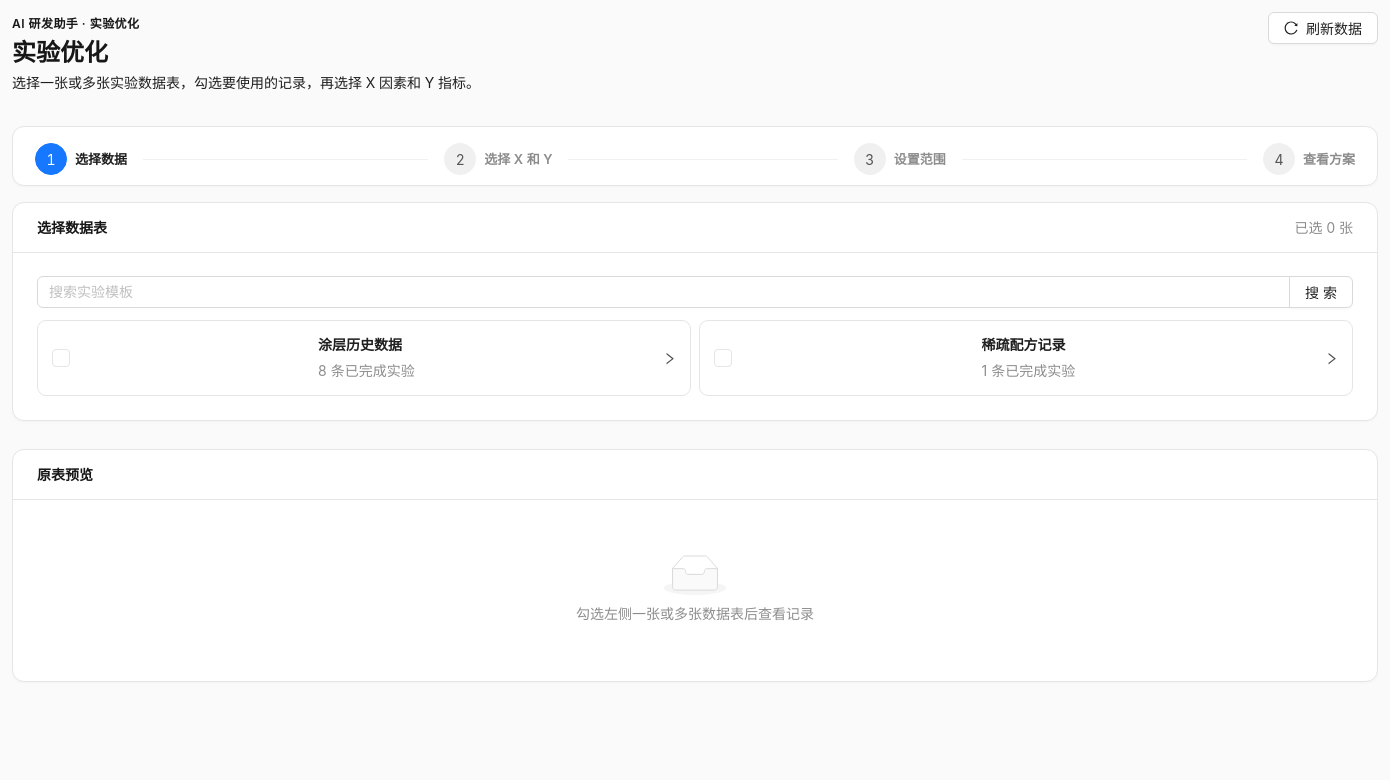
Test: HistoricalOptimizationWorkbench › shows loading and ignores a late failure after the table is deselected
Click the text "涂层历史数据" at (360, 345), box [318,336,402,353]
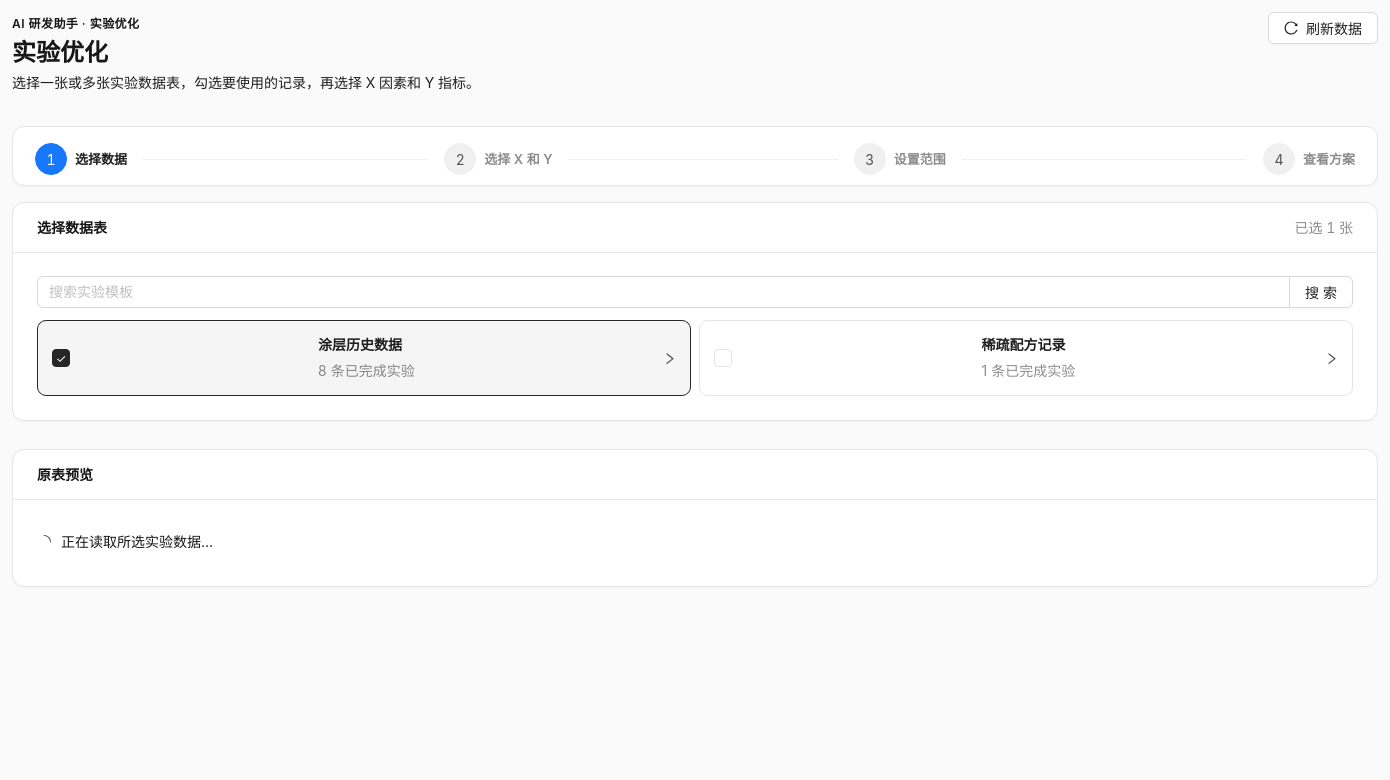
Result: the text "正在读取所选实验数据…" is shown at [61,533,213,550]
Click the text "涂层历史数据" at (360, 345), box [318,336,402,353]
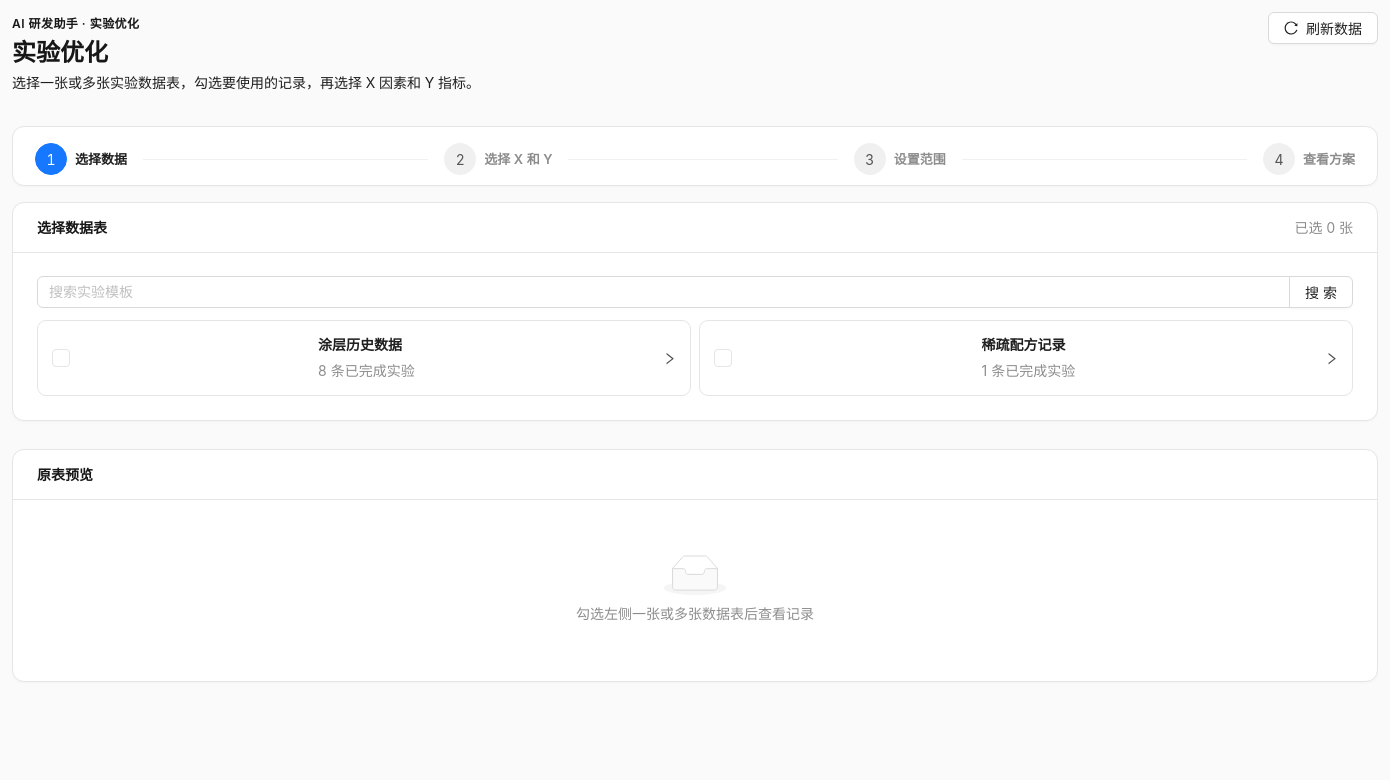
Result: the text "正在读取所选实验数据…" is gone
Result: the message "正在读取所选实验数据…" is gone
Result: the text "勾选左侧一张或多张数据表后查看记录" is shown at [576,605,814,622]
